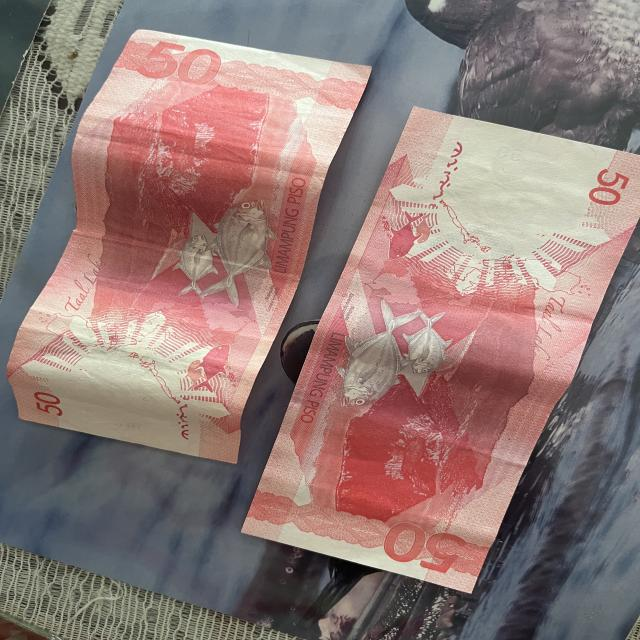50_maliputo: (336, 294, 456, 420), (167, 190, 281, 310)
50_maliputo_watermark: (175, 341, 238, 399), (384, 202, 437, 268)
watermark: (440, 142, 589, 239)
